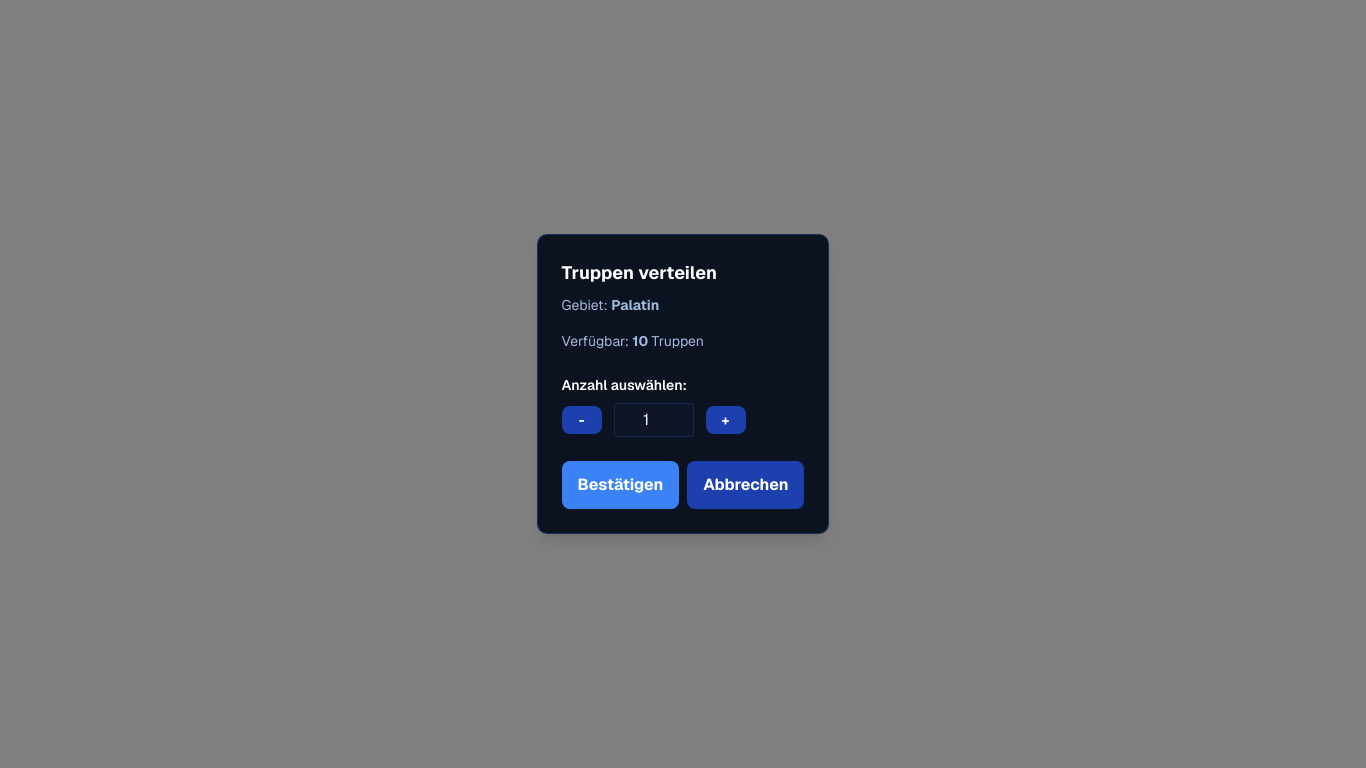
Scenario: DistributionDialog › Button Operations › should decrement count on minus button click
Click the button "+".
click(726, 420)  # box top-left (706, 406), bottom-right (746, 434)
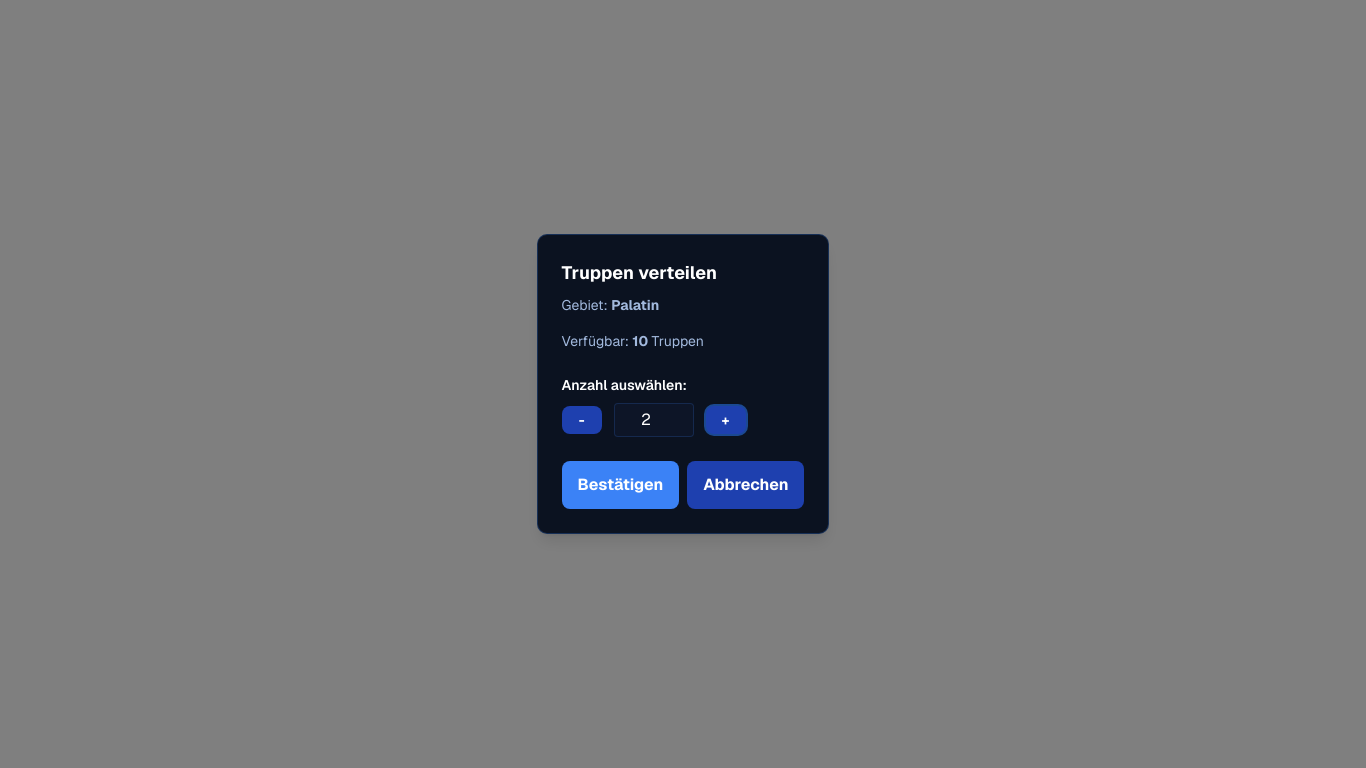
Click the button "-".
click(582, 420)  # box top-left (562, 406), bottom-right (602, 434)
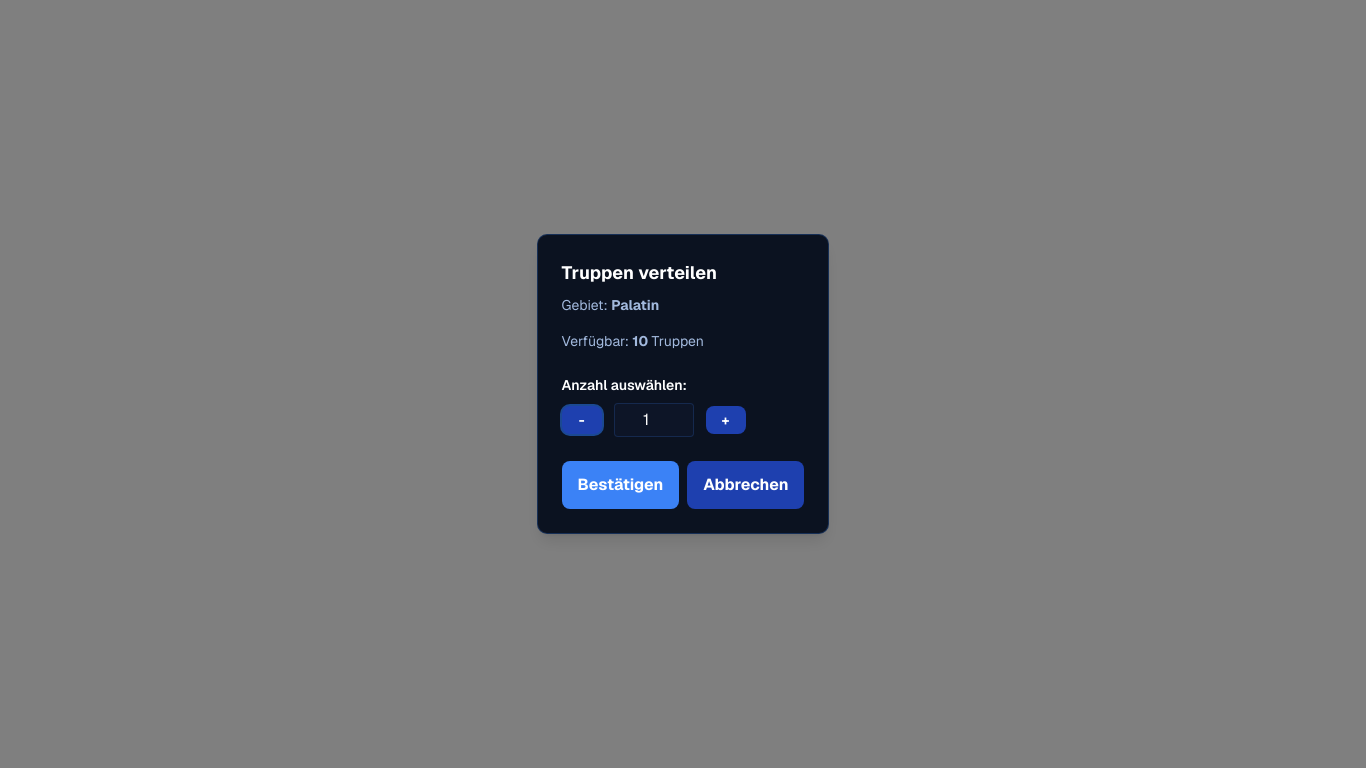
Now the number field holds "1", box top-left (614, 403), bottom-right (694, 437)
